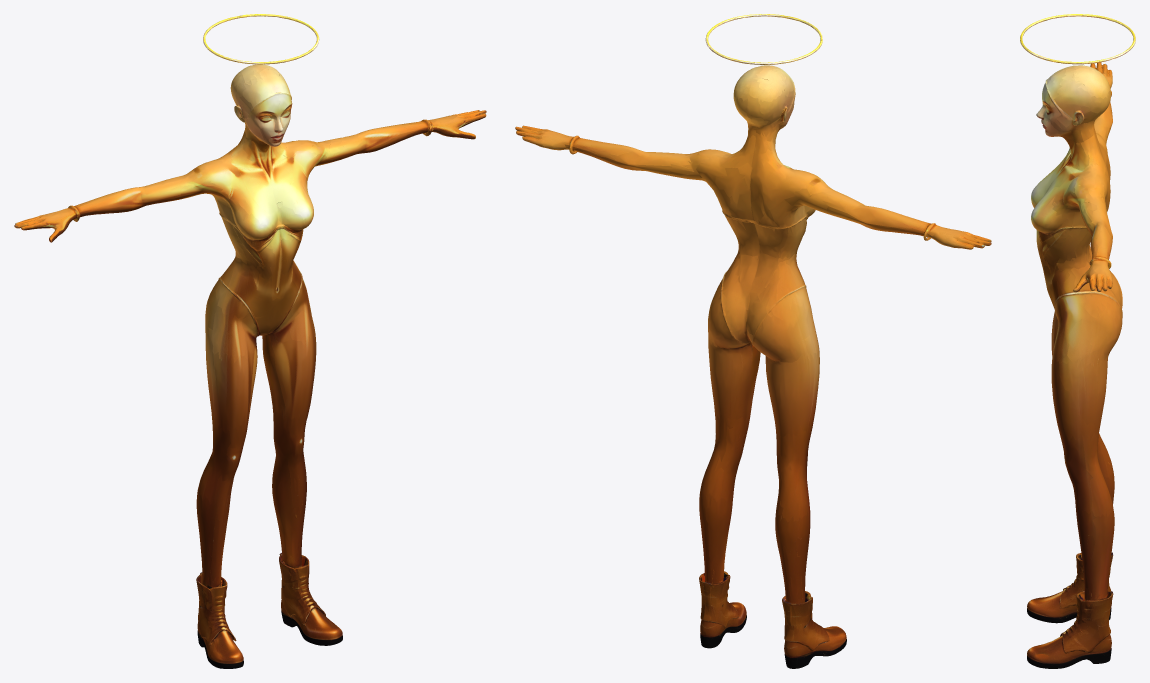
File: shaddai-council-mesh.glb
3 renders of one model, left to right at view 1: azimuth 30°, elevation 25°; view 2: azimuth 150°, elevation 25°; view 3: azimuth 270°, elevation 25°, orthographic.
Parts seen in each view (by area): view 1: Mesh_0; view 2: Mesh_0; view 3: Mesh_0.
Part boxes in pixels (left/top/right/bottom): Mesh_0: left=14, top=14, right=486, bottom=668; Mesh_0: left=515, top=14, right=991, bottom=668; Mesh_0: left=1020, top=14, right=1135, bottom=668.
Size of the model in its own units: 1.55 by 1.9 by 0.3315.
1 material, 1 textured.
